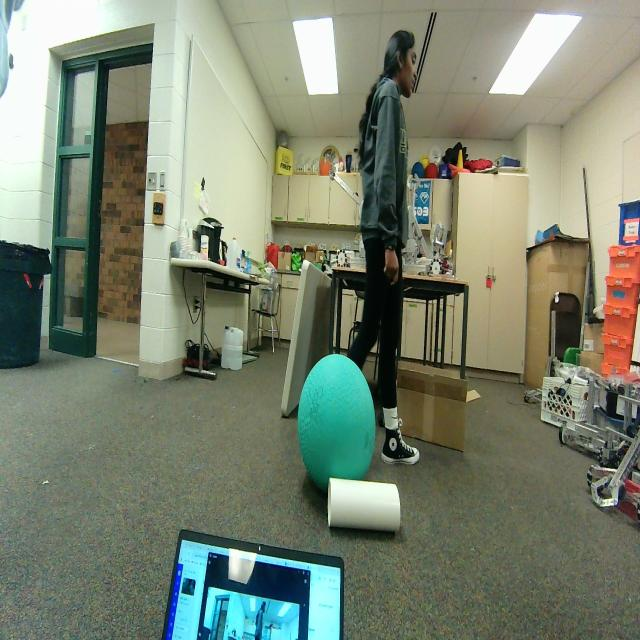algae: (297, 354, 374, 479)
coral: (328, 478, 401, 536)
